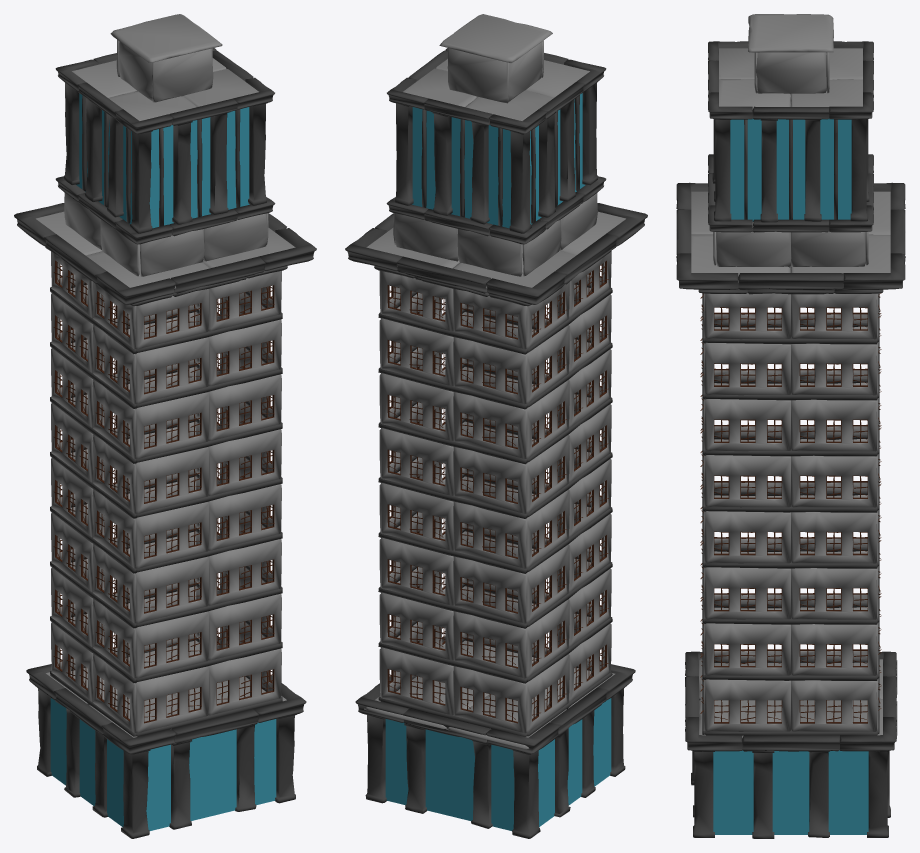
Rendered from SM_building_ruins_skyscraper.fbx.
3 renders of one model, left to right at view 1: azimuth 30°, elevation 25°; view 2: azimuth 150°, elevation 25°; view 3: azimuth 270°, elevation 25°, orthographic. The views are drawn at different scales.
Parts seen in each view (by area): view 1: Box266; view 2: Box266; view 3: Box266.
Boxes of the visible parts, x1,y1,x2,y2 form: Box266: (14,14,316,838); Box266: (345,14,647,838); Box266: (676,14,905,838).
Bounding box in the file's own units: 525 × 1935 × 525.
